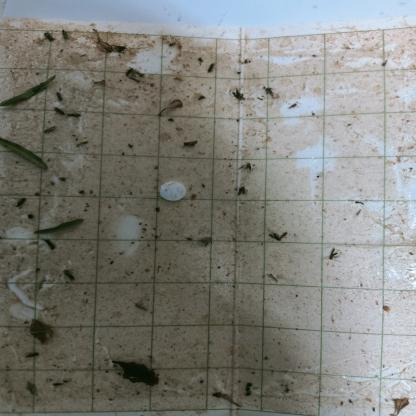prays_oleae: (231, 84, 247, 110), (267, 226, 289, 244), (263, 83, 277, 100), (236, 184, 250, 198), (243, 159, 254, 175), (327, 248, 339, 261)
